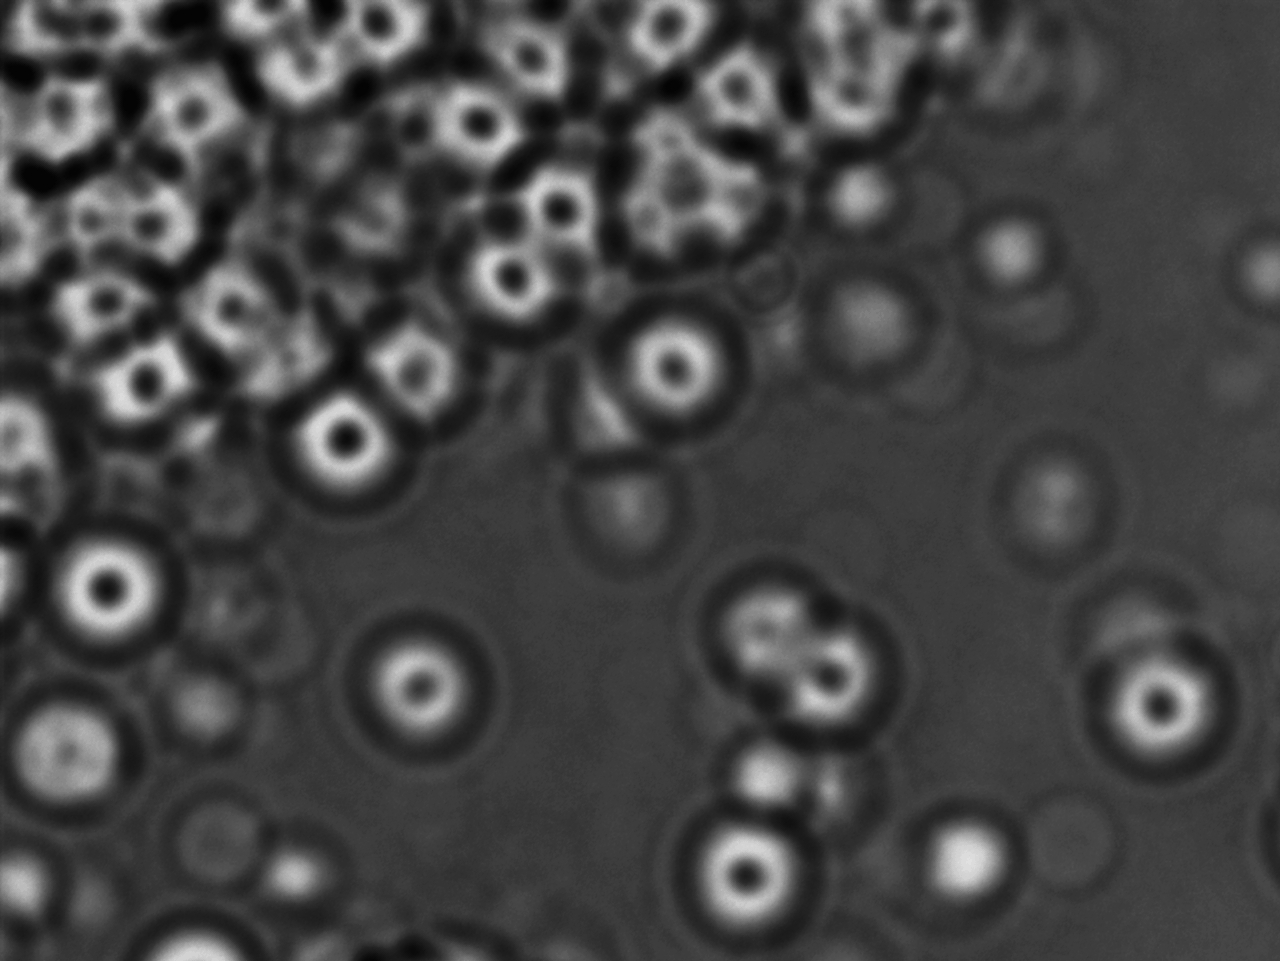depth:32: (753, 590, 910, 739), (671, 797, 826, 945), (353, 623, 501, 766), (1086, 632, 1221, 771), (603, 299, 740, 433), (39, 527, 175, 661), (279, 382, 415, 510), (98, 317, 221, 440), (449, 220, 565, 346), (509, 153, 622, 276), (415, 73, 527, 193), (45, 249, 155, 352)
